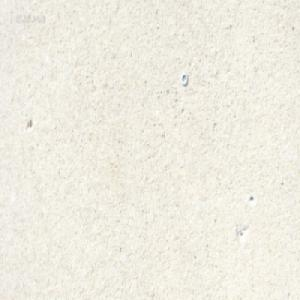Washer: (180, 72, 188, 86)
